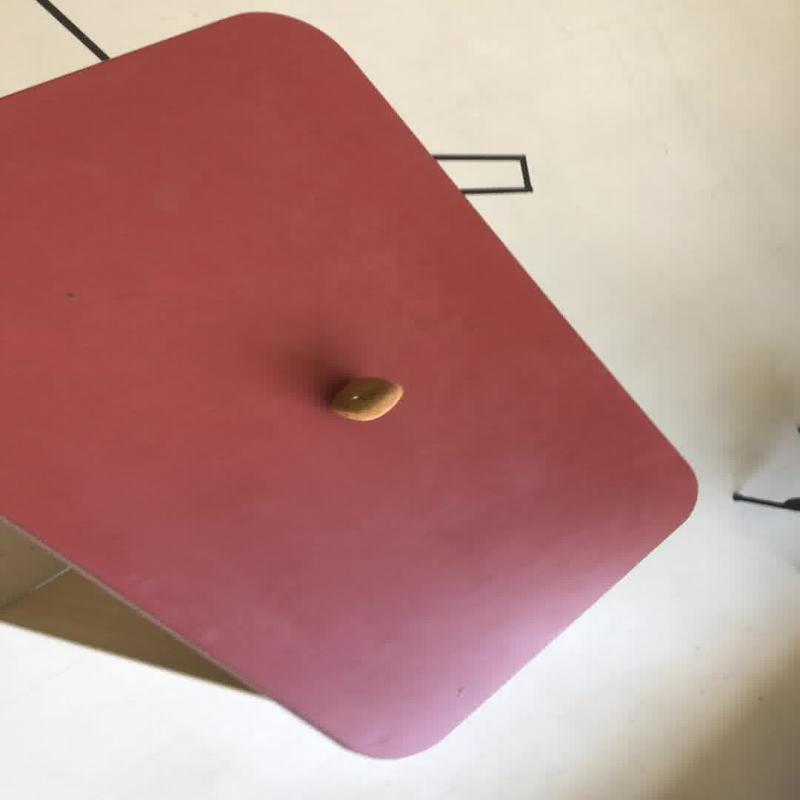kiwi: (1, 9, 700, 759), (326, 376, 404, 422)
